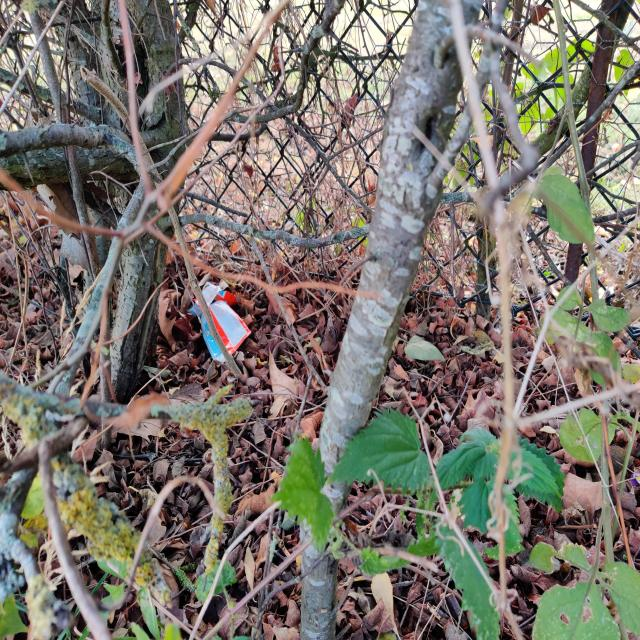litter: (184, 273, 252, 376)
